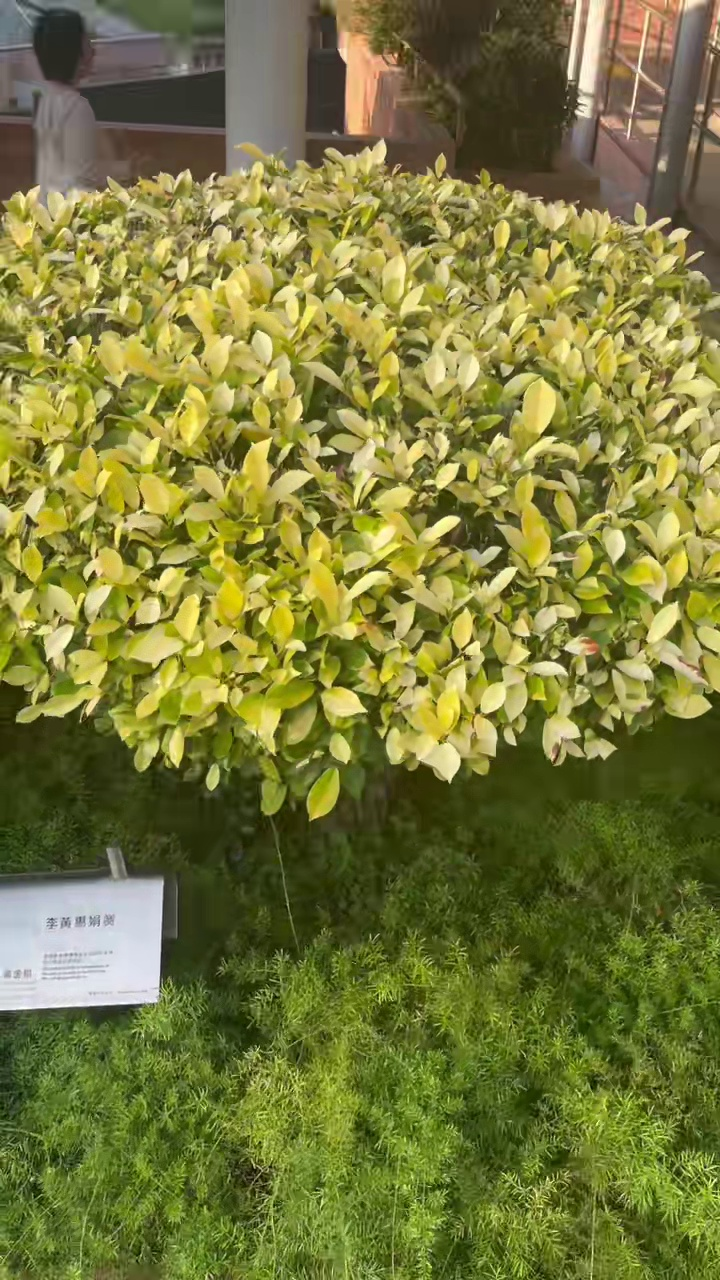Golden-leaves Fig: (0, 143, 719, 819)
